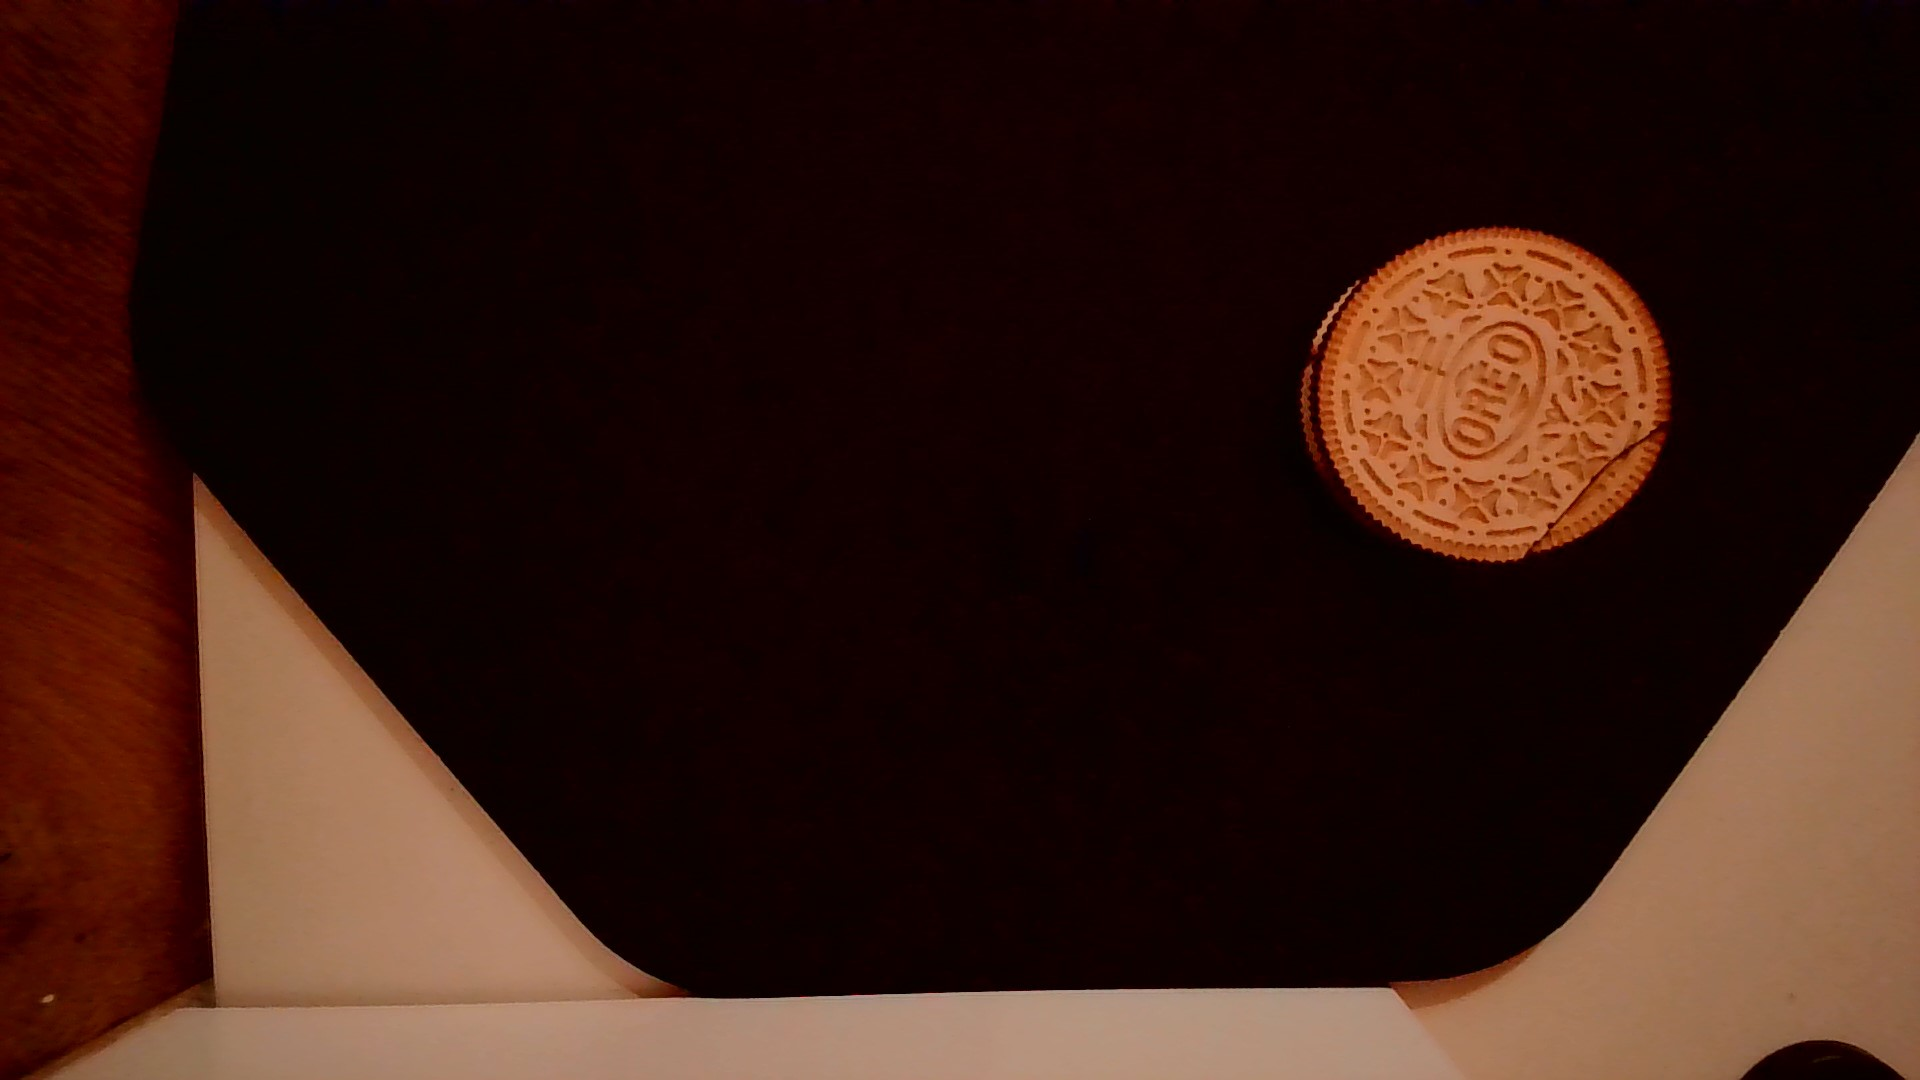Fissure: (1516, 413, 1668, 554)
Oréo: (1279, 215, 1680, 571)
